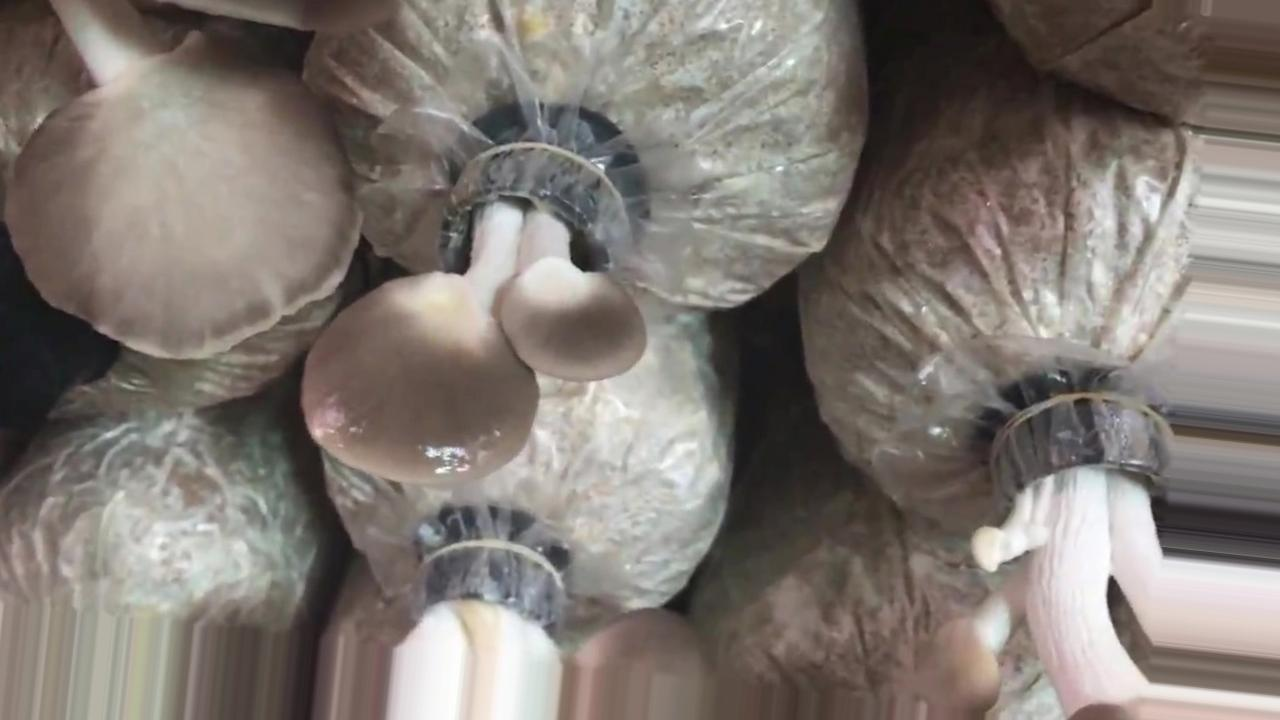nam: (6, 1, 371, 363), (295, 138, 649, 487), (923, 373, 1280, 714), (342, 510, 705, 720)
